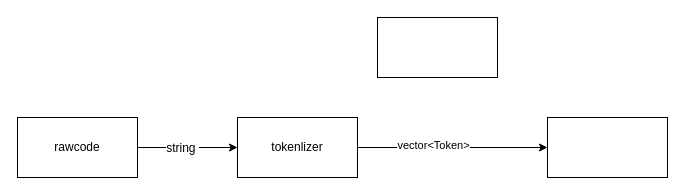
Image size: 685x195. Some labels were removed from this diagram. The shapes that lost their labels are listed below. From the top down, each one's centre as x and y in pixels, then its label:
At pixel 437 47: "Class Token".
At pixel 607 147: "parser".
